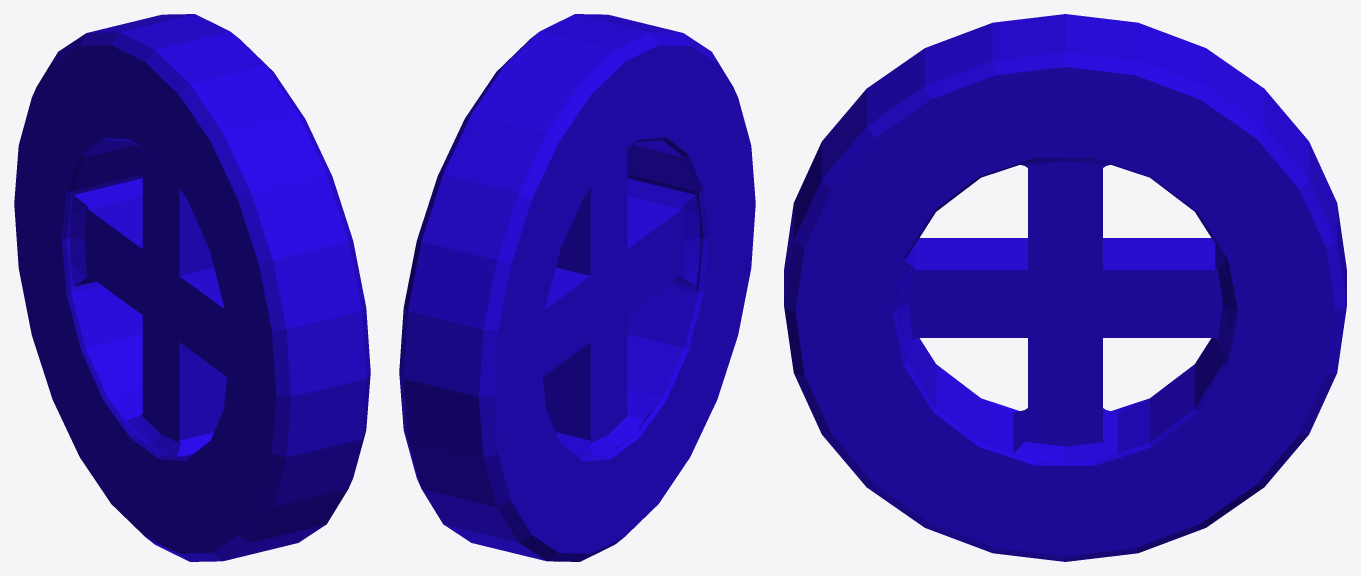
The model's file is Right_Wheel.dae.
3 renders of one model, left to right at view 1: azimuth 30°, elevation 25°; view 2: azimuth 150°, elevation 25°; view 3: azimuth 270°, elevation 25°, orthographic. The views are drawn at different scales.
Parts seen in each view (by area): view 1: Wheel; view 2: Wheel; view 3: Wheel.
Part boxes in pixels (<box>): Wheel: <box>14,14,370,561</box>; Wheel: <box>399,14,755,561</box>; Wheel: <box>784,14,1346,561</box>.
Bounding box in the file's own units: 0.03 × 0.15 × 0.15.
